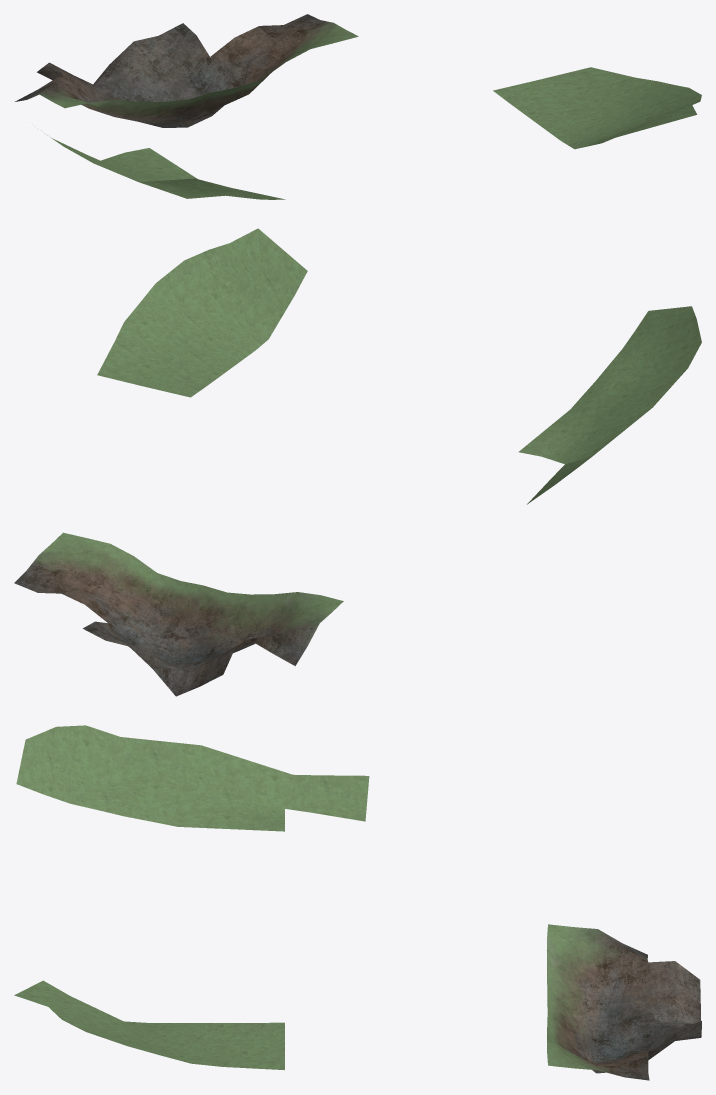
The model's file is BgMD_ground_tutorial03_01.fbx.
The picture shows the model from 3 angles, top to bottom: view 1: azimuth 30°, elevation 25°; view 2: azimuth 150°, elevation 25°; view 3: azimuth 270°, elevation 25°; orthographic projection. The views are drawn at different scales.
Visible parts, largest first — view 1: pPlane180, pCube35, pCube46; view 2: pPlane180, pCube35, pCube46; view 3: pCube46, pPlane180, pCube35.
Part boxes in pixels (x1,y1,x2,y2): pPlane180: (15, 14, 358, 127); pCube35: (493, 67, 701, 149); pCube46: (44, 133, 285, 199); pPlane180: (14, 532, 343, 696); pCube35: (97, 228, 307, 397); pCube46: (518, 306, 701, 504); pCube46: (16, 725, 369, 831); pPlane180: (546, 924, 701, 1080); pCube35: (14, 980, 284, 1070).
Bounding box in the file's own units: 11404 × 4231 × 12343.
